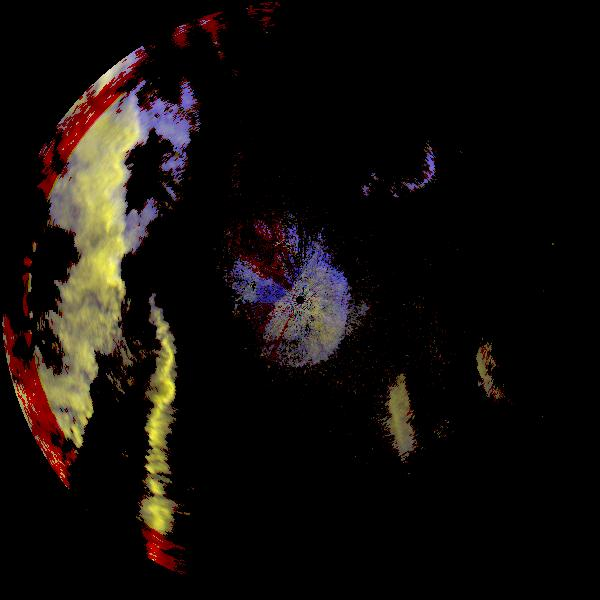roost: (360, 319, 546, 505)
